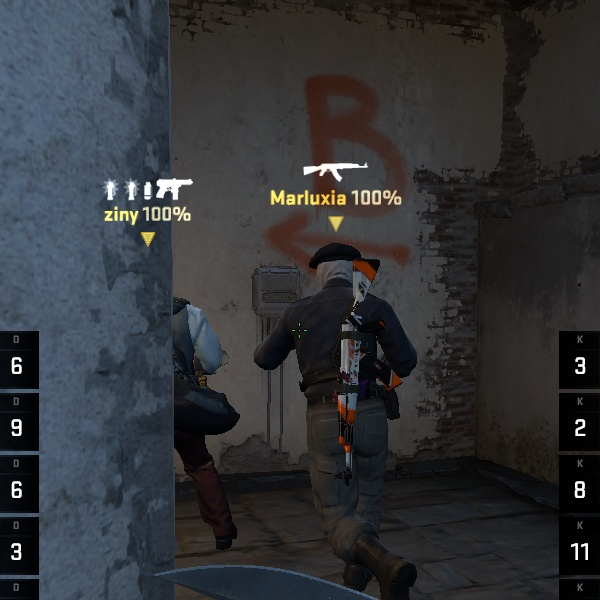t_body: (220, 235, 448, 587)
t_head: (297, 236, 381, 303)
